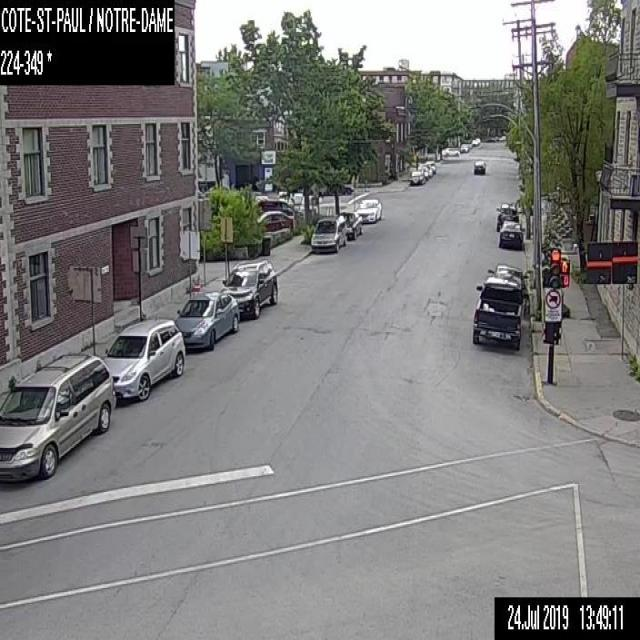Car: (0, 352, 115, 483), (100, 318, 186, 403)
Pickup: (471, 266, 525, 350)
